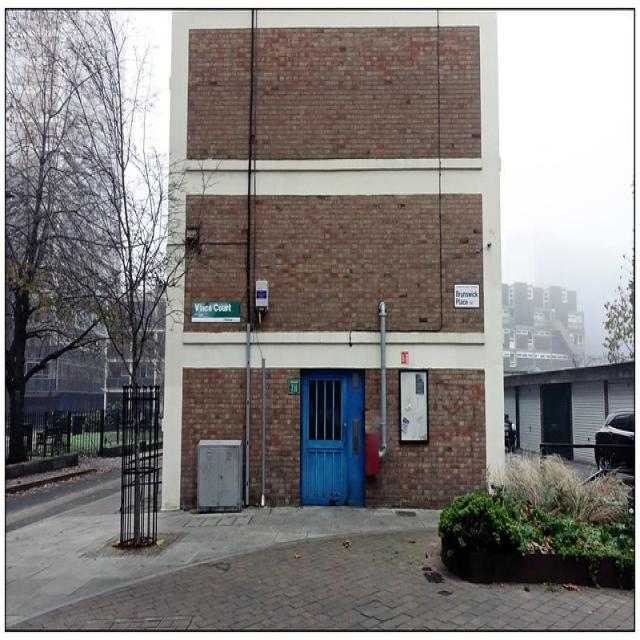building: (161, 8, 508, 523)
